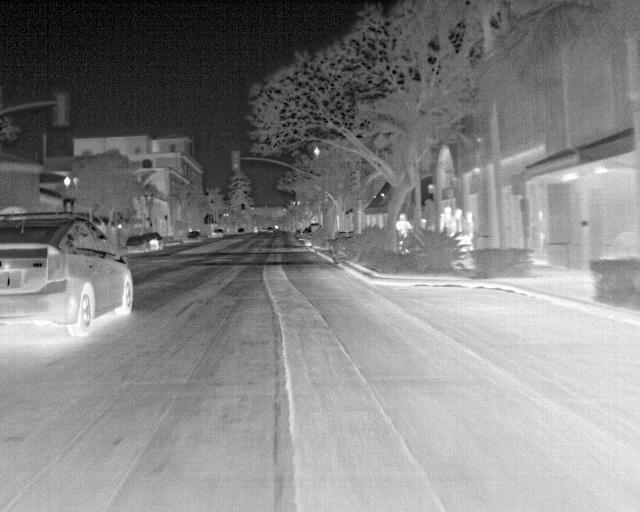bicycle: (0, 210, 139, 337), (124, 235, 151, 255), (142, 232, 163, 251), (184, 229, 204, 244), (211, 227, 224, 239)
empty: (438, 204, 455, 237), (452, 208, 466, 239), (395, 212, 413, 236), (464, 210, 476, 238)
